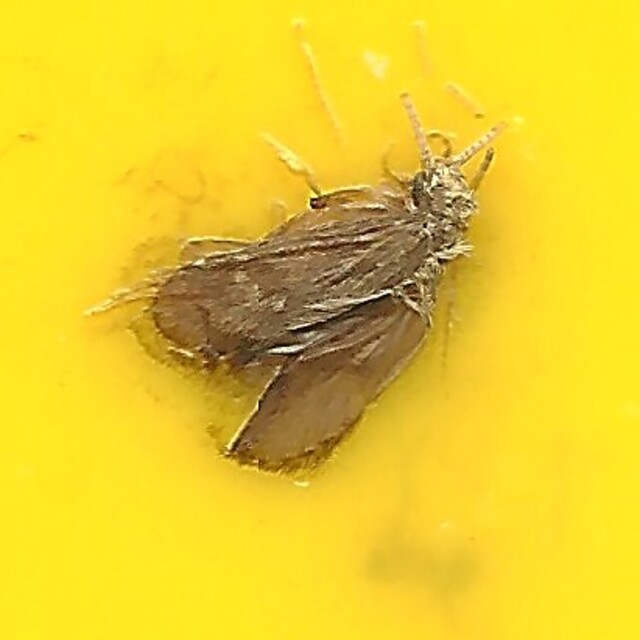Trichoptera: (156, 158, 484, 482)
